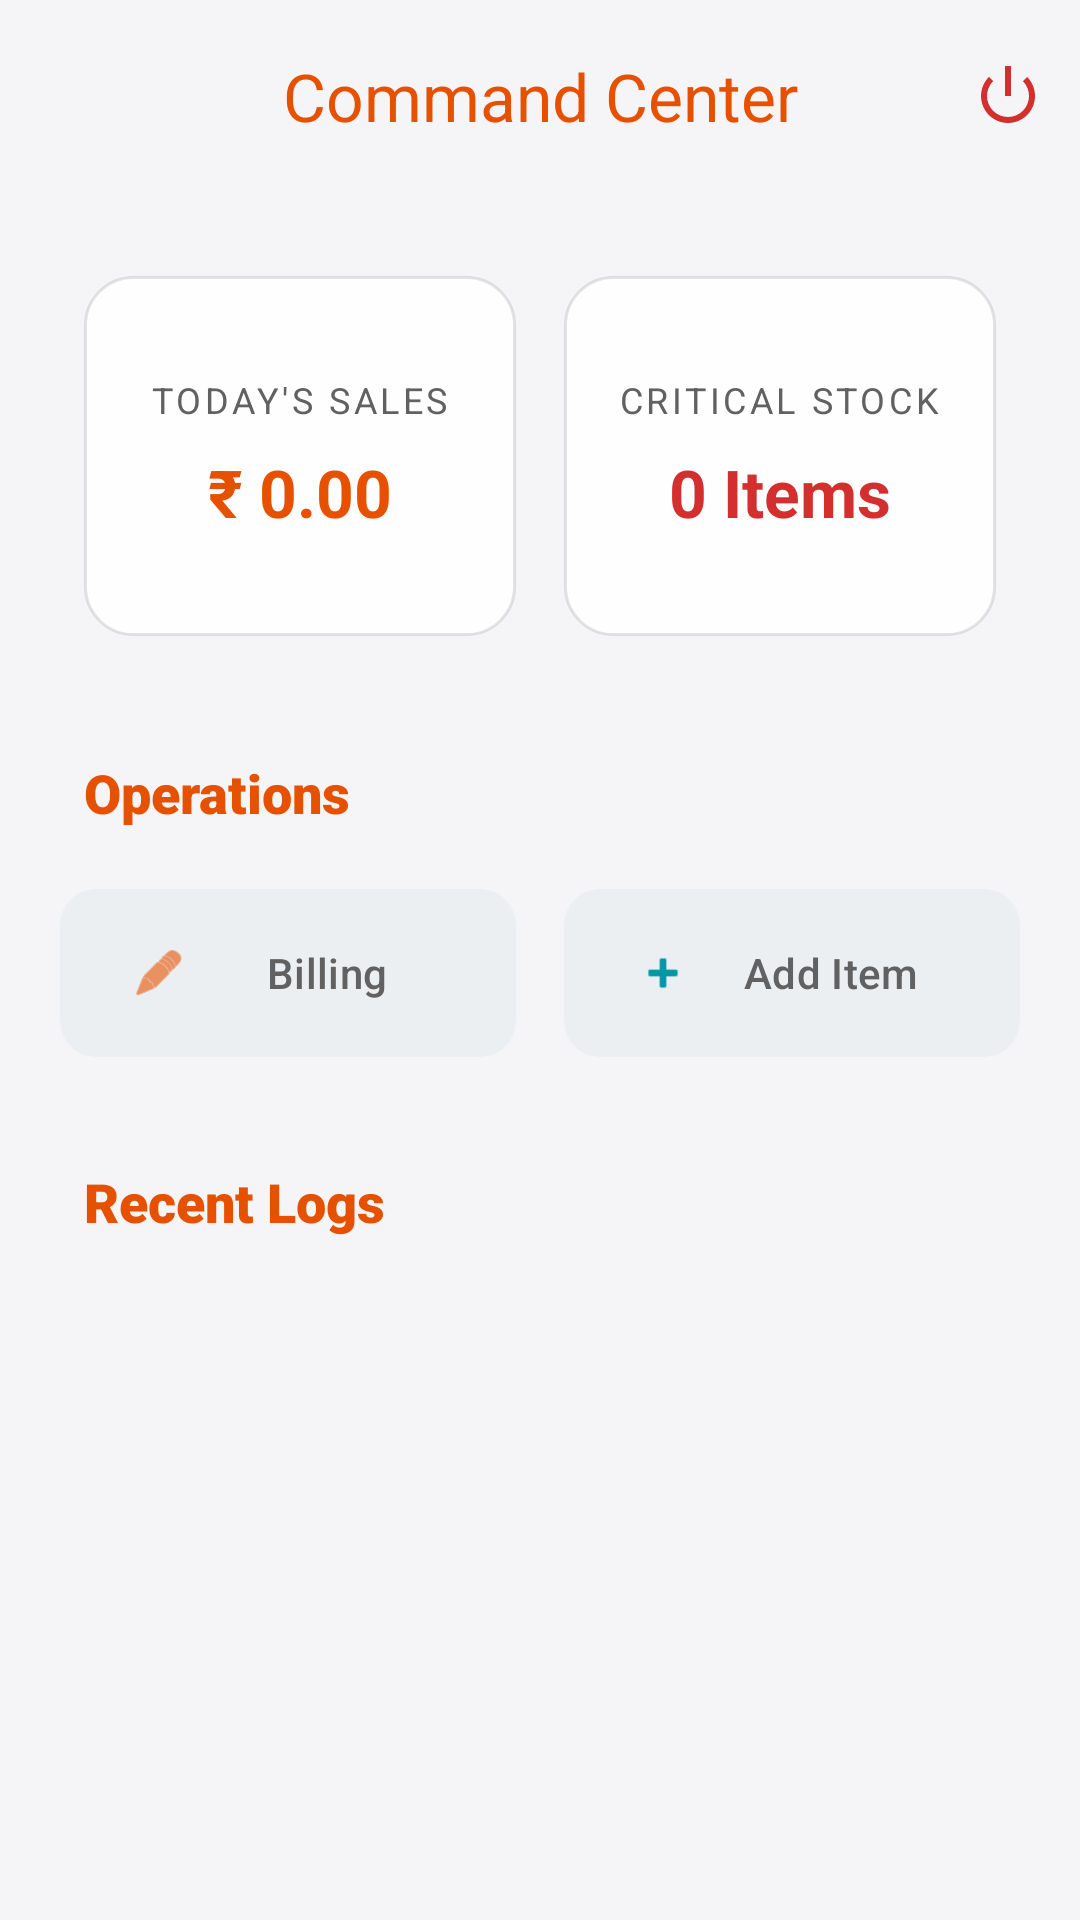

Where icons sit on this 1080×1920 app screen, as (left=x1, top=y1, right=x2, bottom=y2):
lock power off: (left=981, top=66, right=1035, bottom=123)
